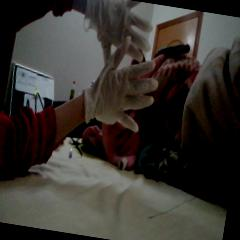gloved: (80, 32, 164, 134), (75, 0, 158, 81)
